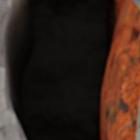brick: (120, 17, 139, 139)
crack: (0, 0, 139, 139)
